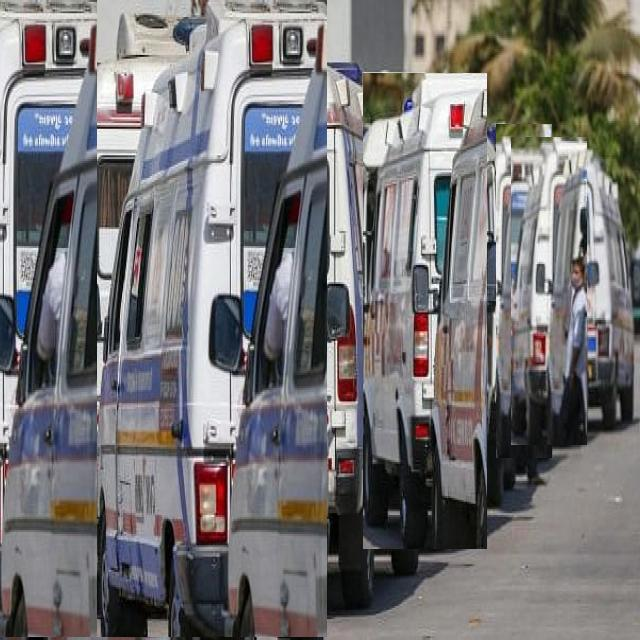emergency: (98, 0, 327, 637), (0, 0, 197, 637), (240, 13, 420, 608), (364, 73, 487, 549), (452, 118, 515, 505), (512, 137, 587, 445), (556, 151, 634, 426), (496, 124, 552, 458)
